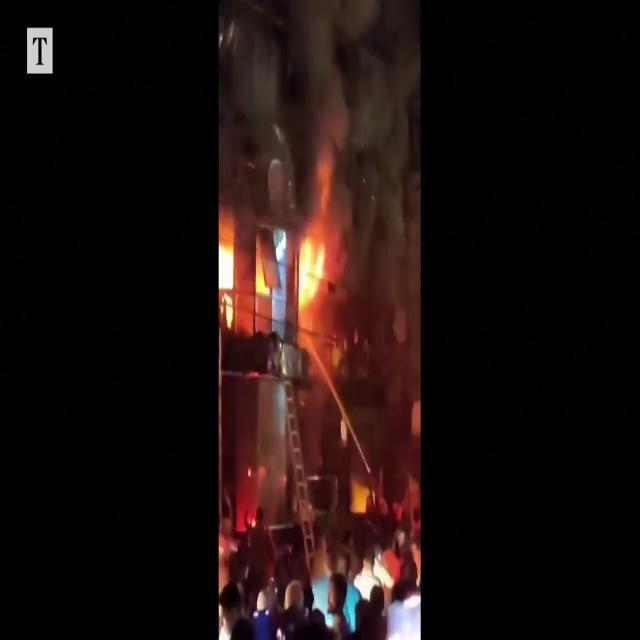Fire: (295, 226, 331, 314), (219, 225, 238, 328)
Smoke: (219, 2, 421, 267)
